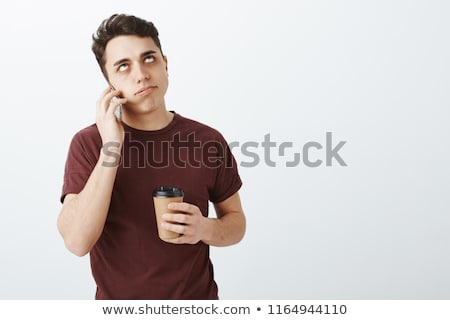phone: (97, 75, 128, 120)
talk: (88, 48, 166, 129)
